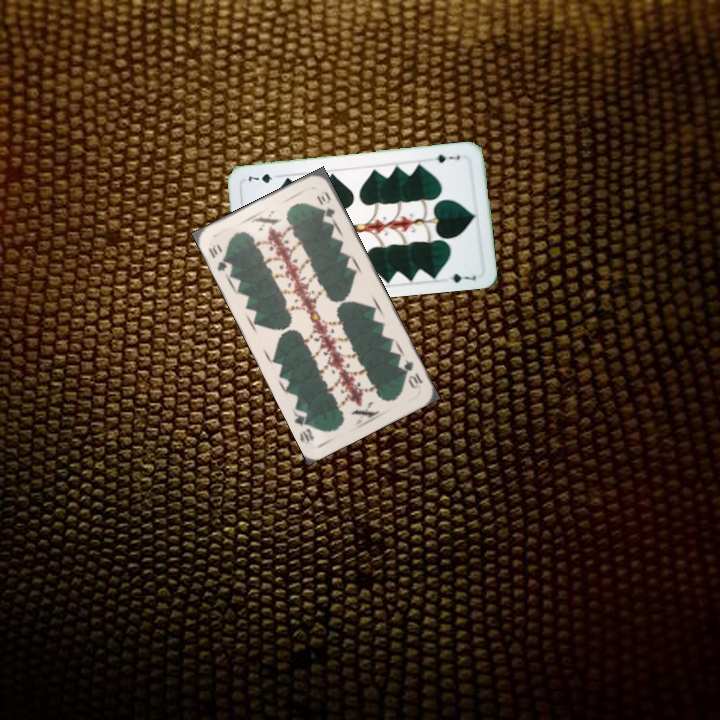G10: (204, 240, 235, 276), (399, 355, 425, 391)
G7: (432, 151, 462, 165)
